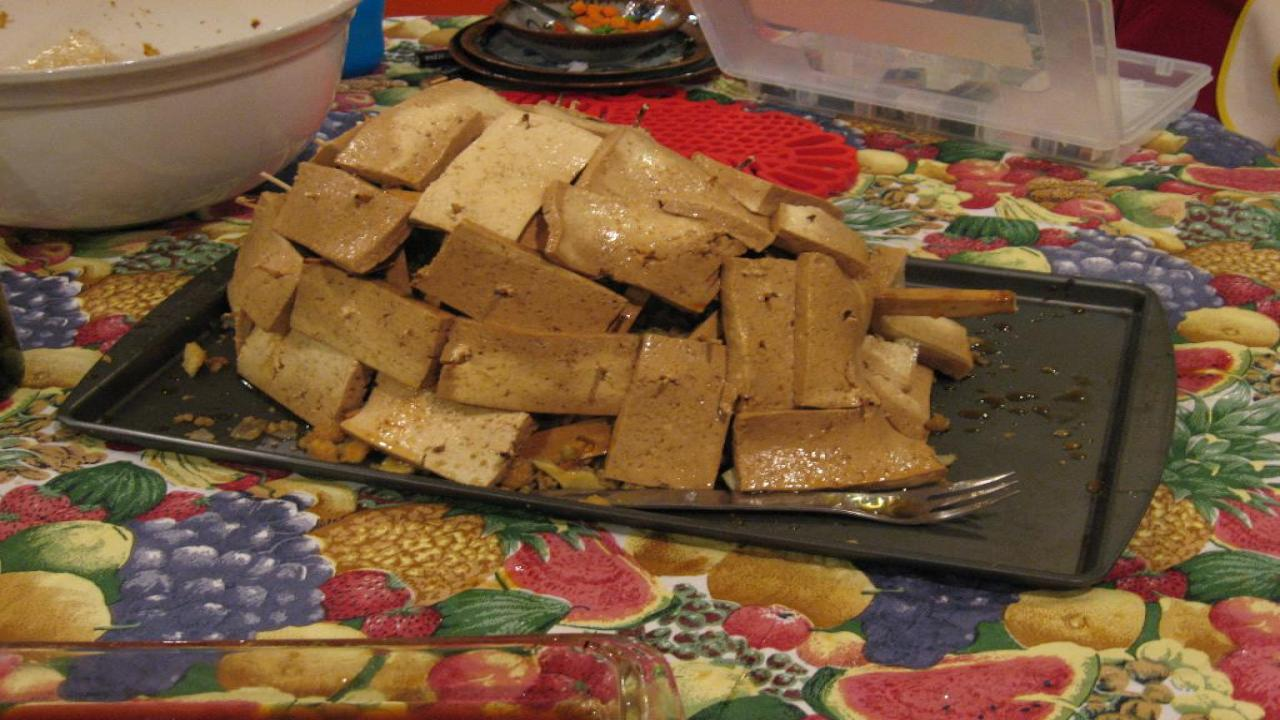fork: (575, 471, 1023, 525)
